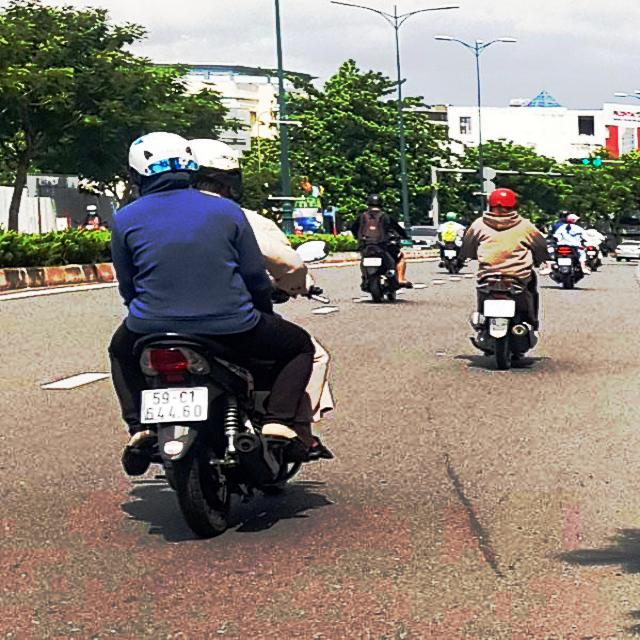license_plate: (141, 391, 209, 423)
